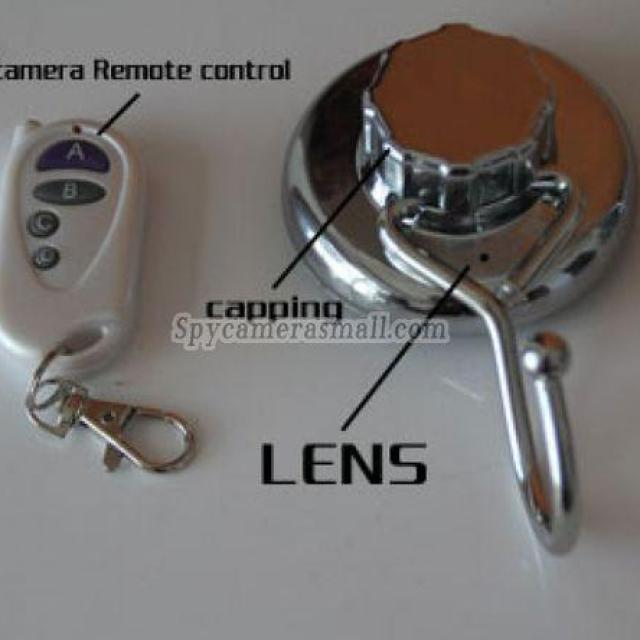hidden camera: (469, 237, 500, 276)
